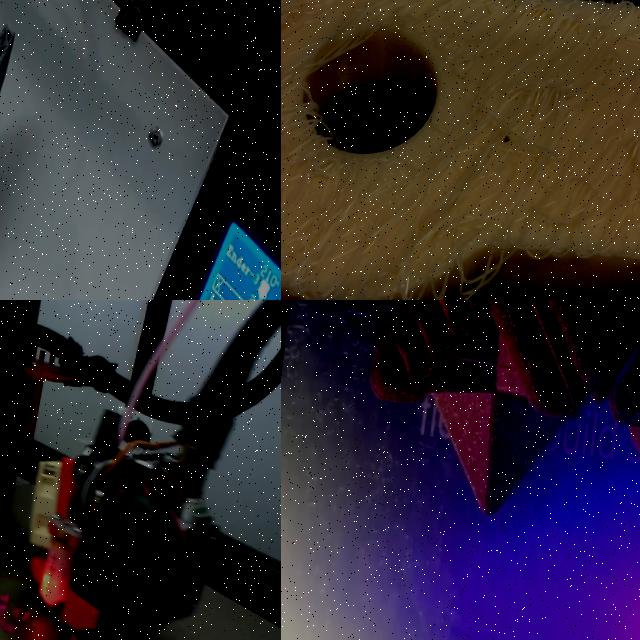spaghetti: (281, 0, 640, 300), (0, 594, 15, 633), (12, 607, 30, 621)
